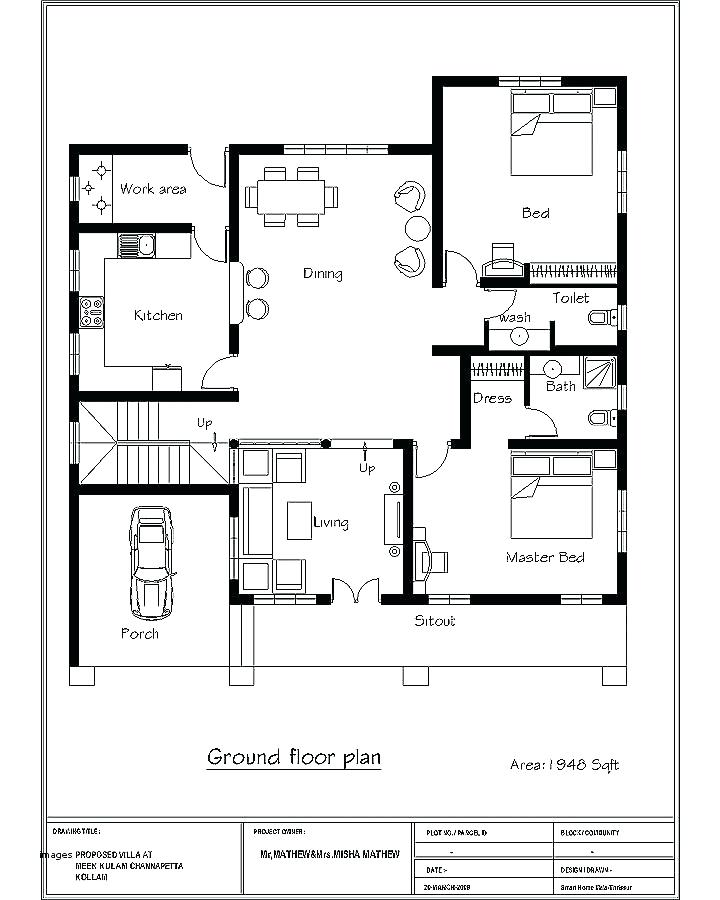door: (324, 568, 382, 595), (187, 158, 226, 195), (185, 156, 224, 193), (529, 402, 568, 439), (412, 452, 451, 489), (189, 354, 228, 391), (444, 242, 476, 279), (196, 238, 227, 272)
window: (278, 142, 391, 158), (495, 74, 566, 92), (615, 146, 631, 217), (615, 486, 629, 556), (425, 593, 473, 608), (557, 593, 605, 608), (67, 250, 81, 296), (67, 420, 81, 466), (66, 332, 80, 378), (65, 172, 81, 205)
